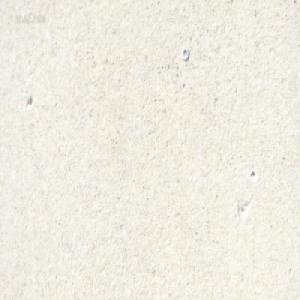Washer: (181, 46, 189, 60)
